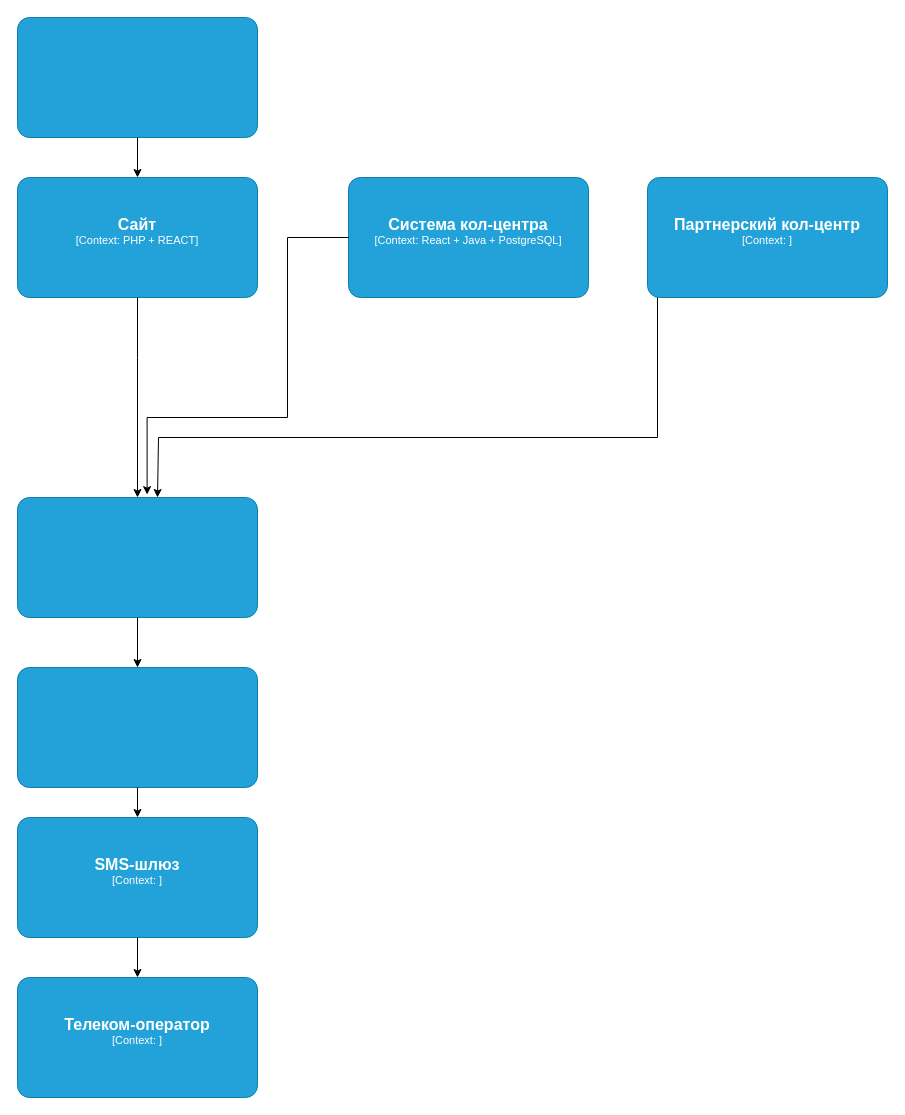
The diagram is 905 pixels wide and 1115 high, and some of its shapes have lost their labels. Here are the shapes that lost their labels. From the top down, the centre of each, then its label:
(137,77): Клиент [Context: ] Клиент Клиент
(137,557): Интернет-банк [Context: ASP.NET MVC + MS SQ ]
(137,727): ABC [Context: Delphi-клиент + Oracle (PL/SQL]
